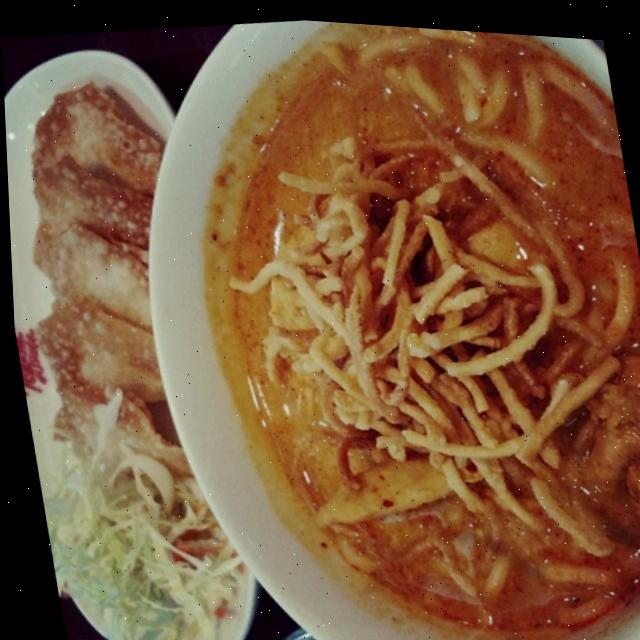面条主食: (195, 25, 640, 608)
